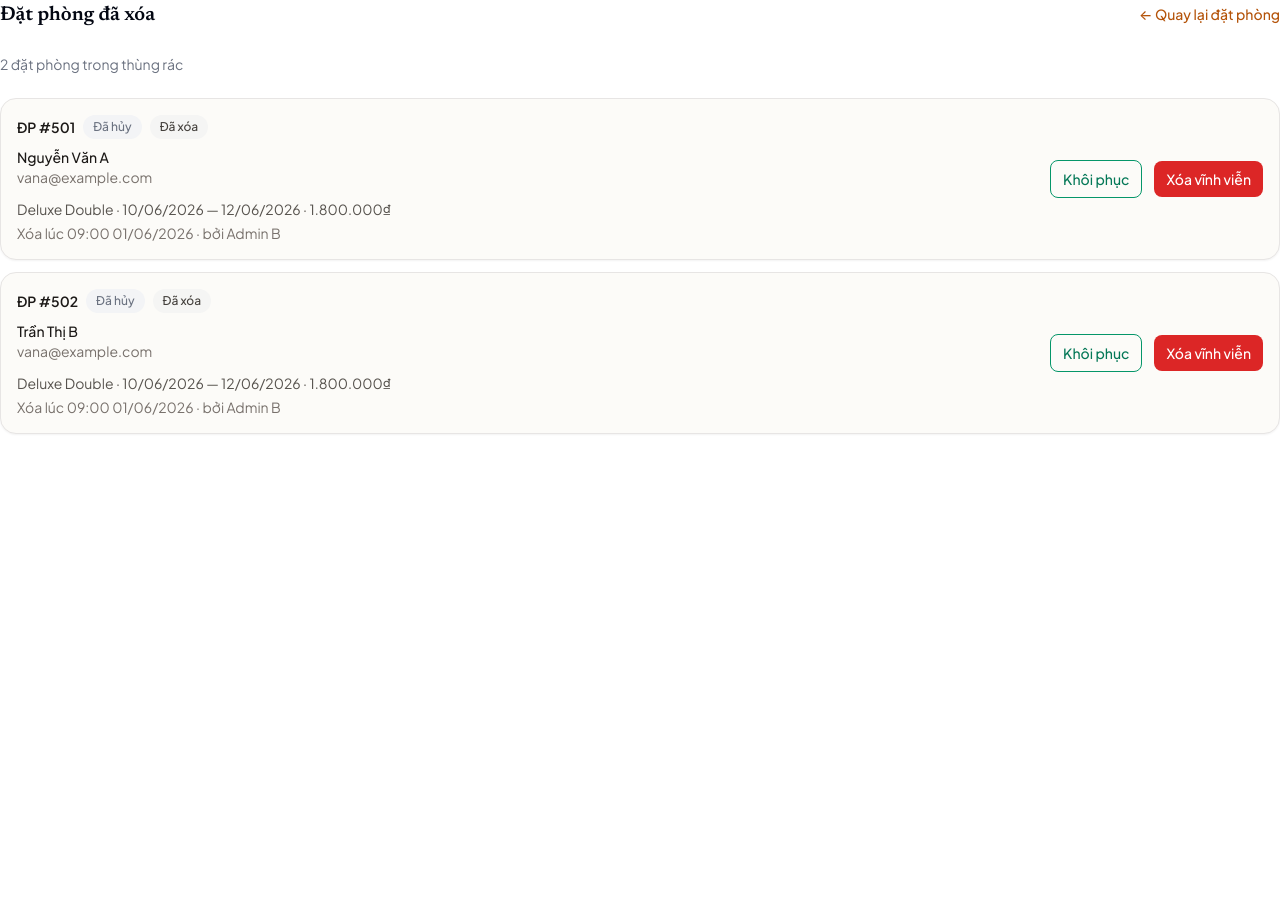
Test: TrashedBookings › force-deletes a booking after confirming in the dialog
Expected: the text "ĐP #501" is shown, [17, 117, 75, 137]
Click the button "Xóa vĩnh viễn" in the row of "Nguyễn Văn A" at (1209, 179), box [1154, 161, 1263, 197]
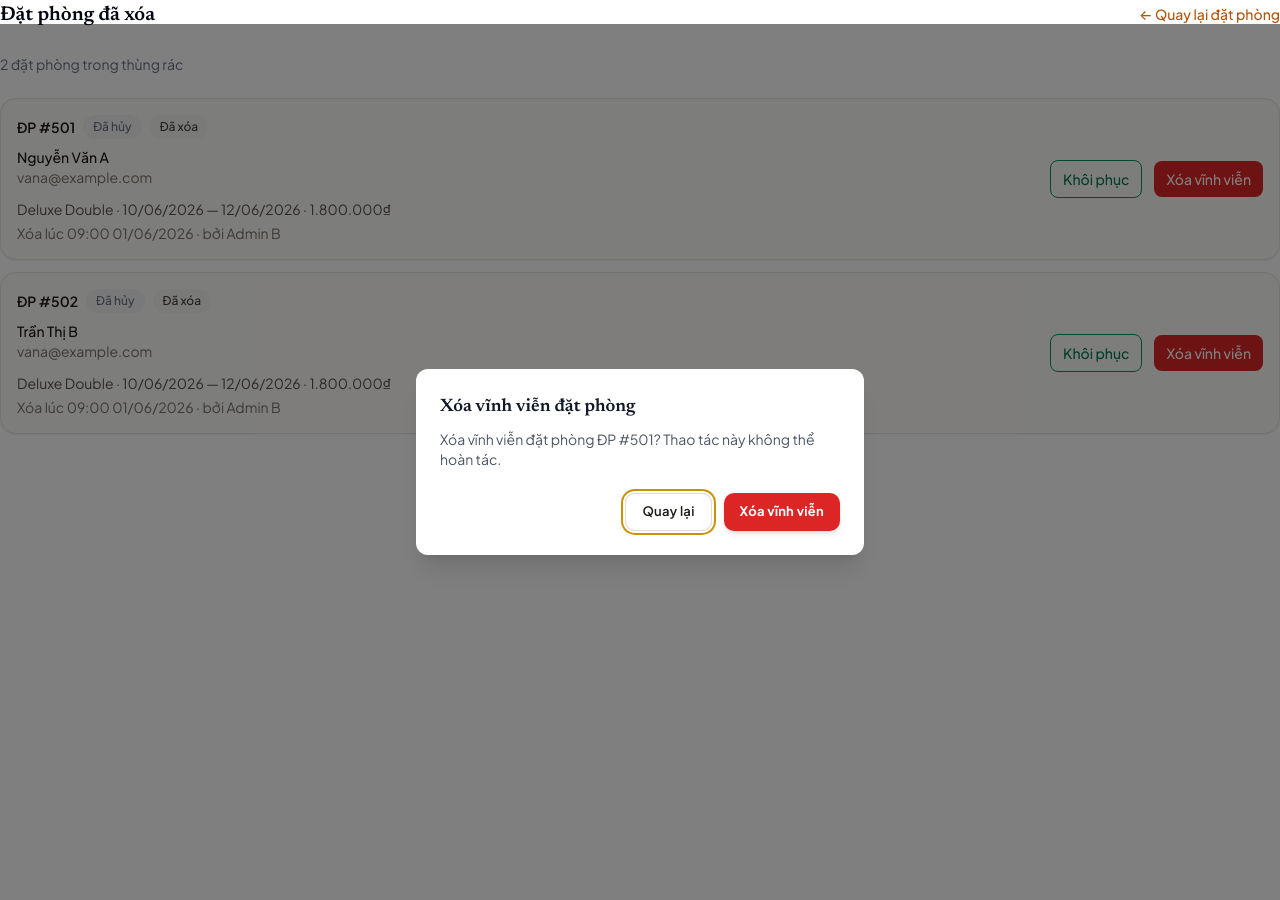
Expected: the heading "Xóa vĩnh viễn đặt phòng" is shown, [440, 398, 636, 416]
Click the button "Xóa vĩnh viễn" at (782, 512), box [724, 493, 840, 531]
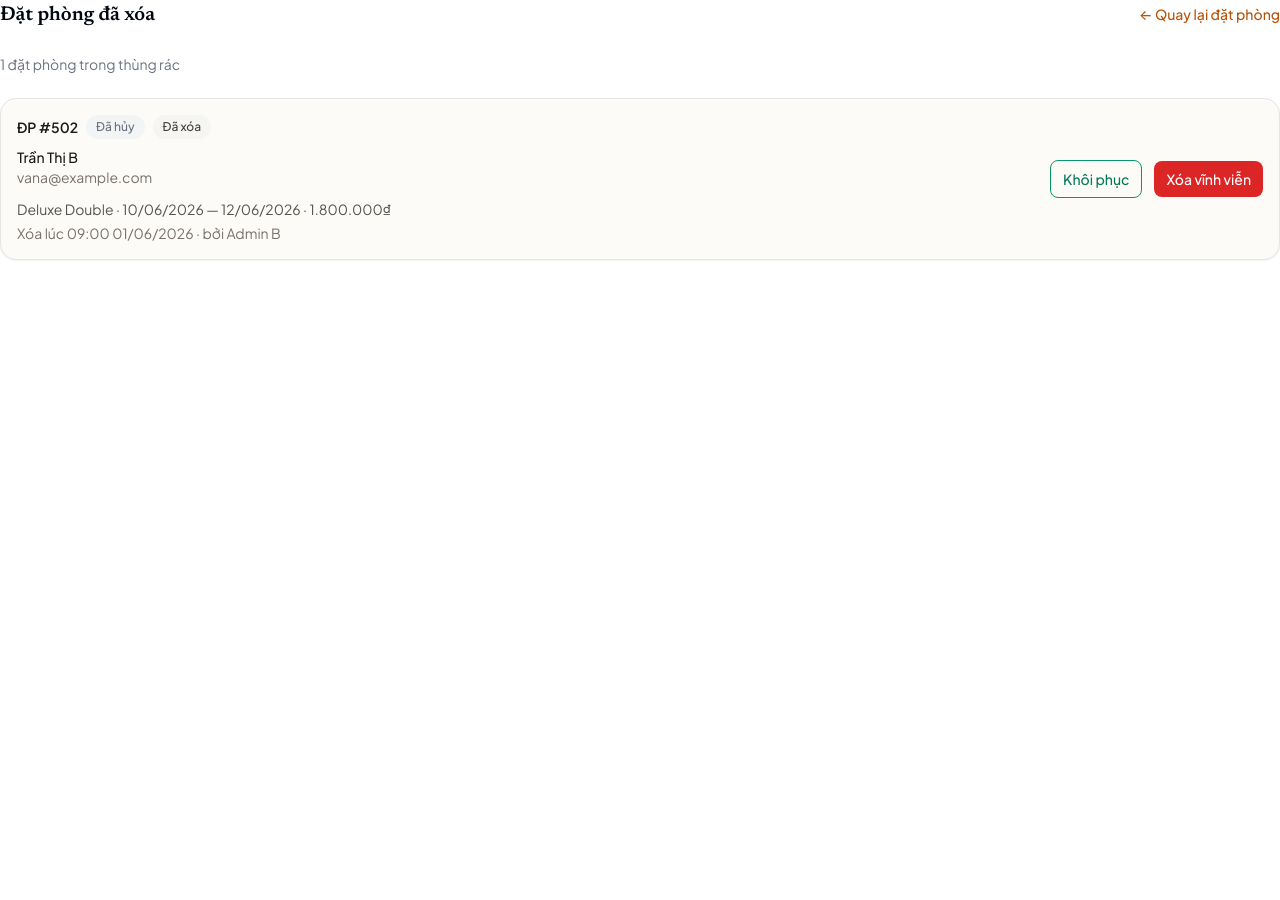
Expected: the text "ĐP #501" is gone
